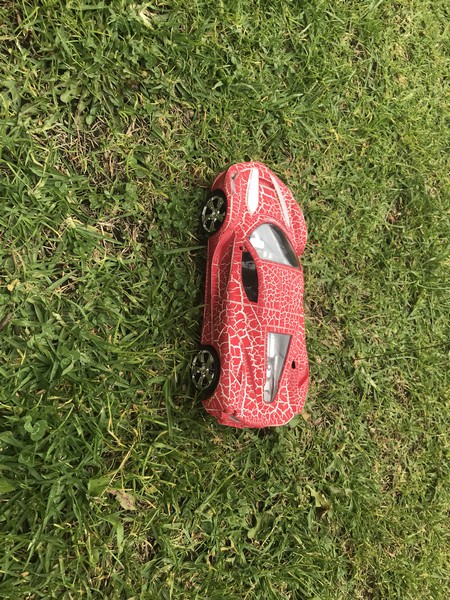RC: (187, 157, 310, 430)
